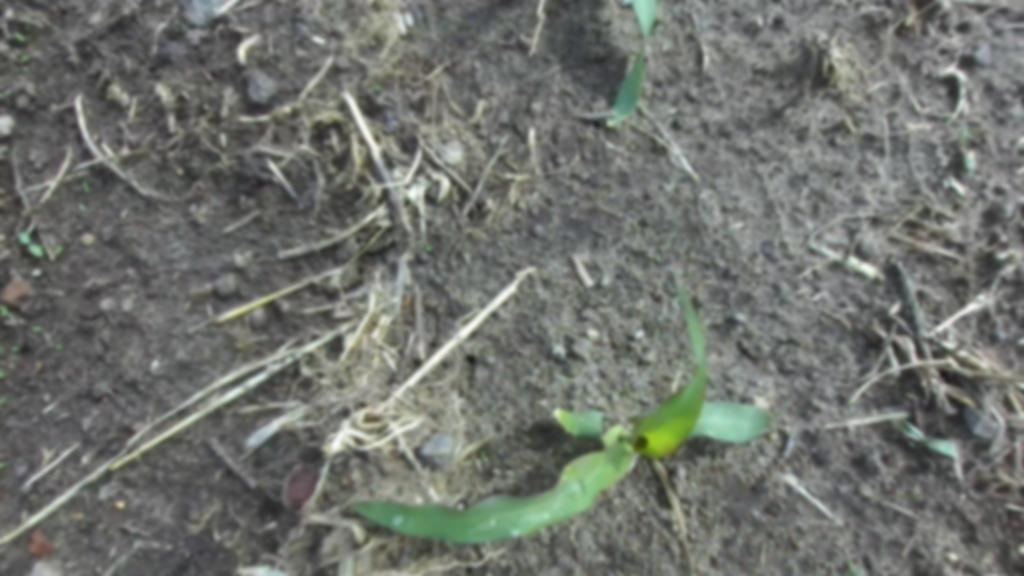BroWeed: (893, 416, 958, 459), (955, 122, 979, 174), (13, 229, 47, 259), (11, 29, 27, 43), (477, 449, 488, 464), (52, 243, 64, 256), (30, 324, 43, 333), (81, 181, 89, 194), (0, 394, 9, 405), (19, 53, 29, 62), (0, 305, 7, 317), (425, 243, 434, 252), (11, 345, 20, 352), (0, 460, 7, 468), (0, 368, 5, 378), (54, 344, 62, 349)
Maize: (340, 266, 779, 576)
